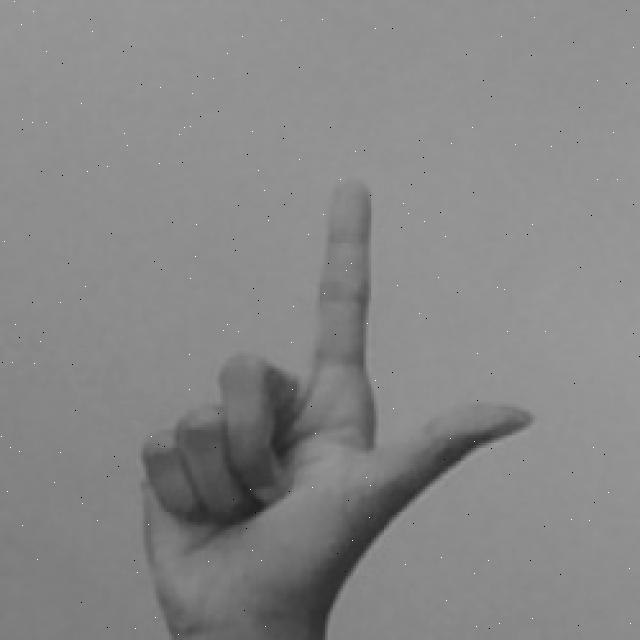L: (138, 171, 545, 640)
